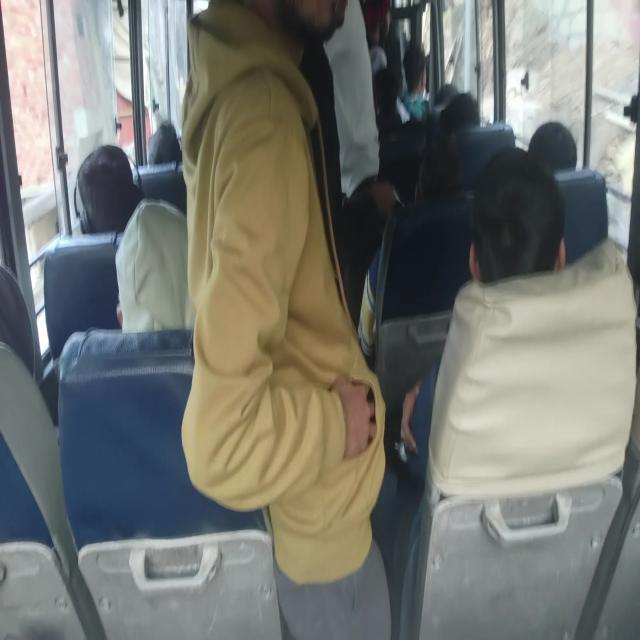person: (194, 4, 346, 573), (112, 206, 200, 342), (290, 0, 346, 208), (485, 159, 550, 321), (325, 0, 383, 155), (84, 134, 140, 242), (0, 265, 51, 370), (536, 113, 572, 194), (412, 147, 457, 204), (448, 85, 487, 141), (375, 71, 406, 128), (404, 38, 433, 98), (393, 110, 433, 145), (150, 124, 181, 163), (432, 80, 458, 98)
